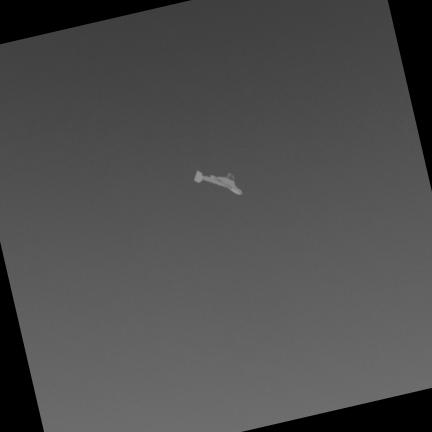Shahed: (195, 171, 242, 194)
